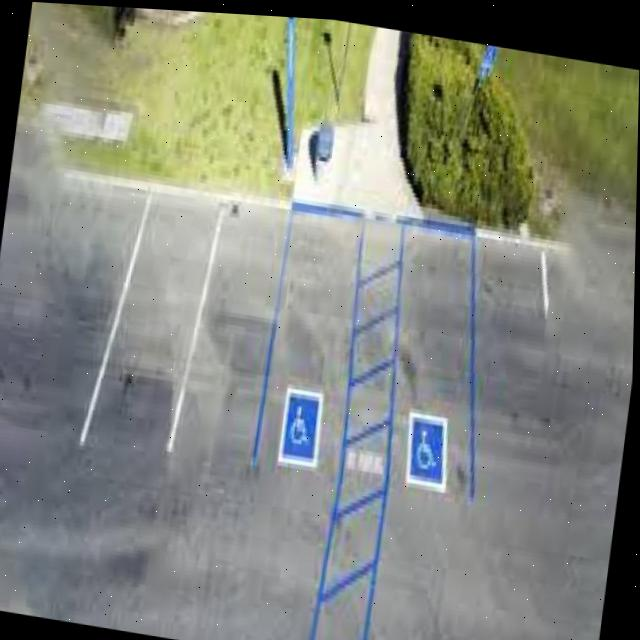symbol_of_access: (283, 387, 321, 458), (410, 409, 448, 478)
